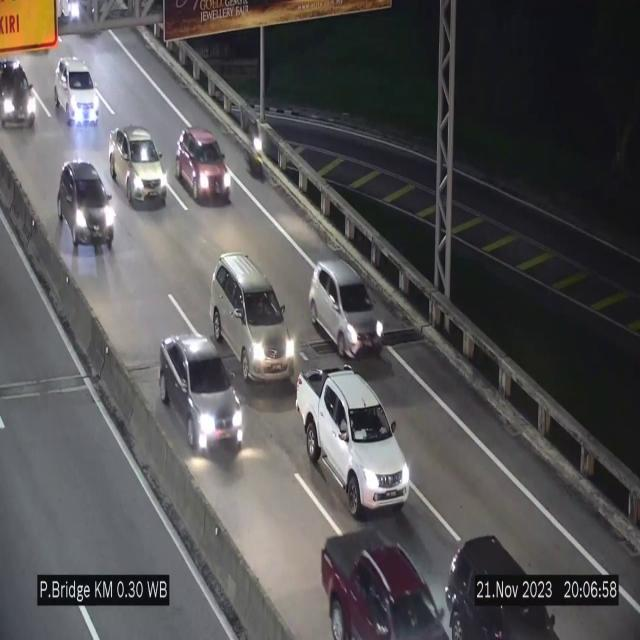Car: (297, 368, 410, 516), (442, 518, 566, 640), (313, 530, 450, 640), (209, 252, 296, 391), (160, 334, 244, 454), (309, 260, 385, 357), (51, 152, 118, 253), (109, 125, 167, 207), (176, 129, 231, 202), (56, 53, 106, 131), (0, 50, 42, 130)
Motorcycle: (242, 116, 266, 184)
